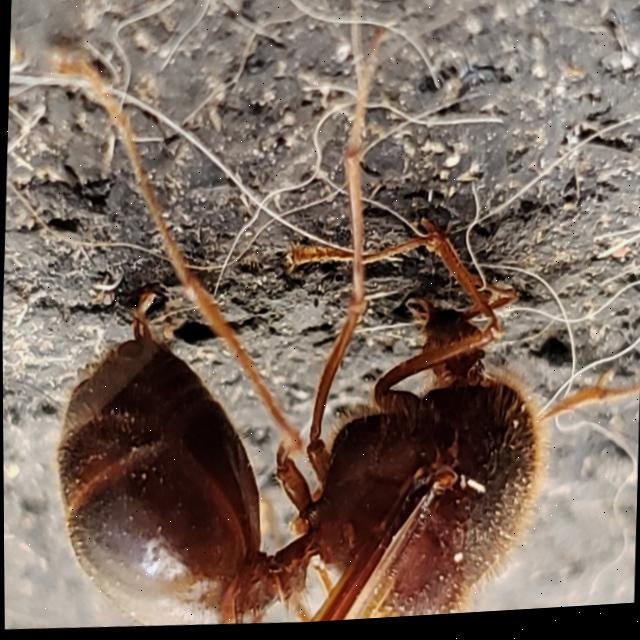Dead-Male-Alate: (38, 6, 640, 638)
